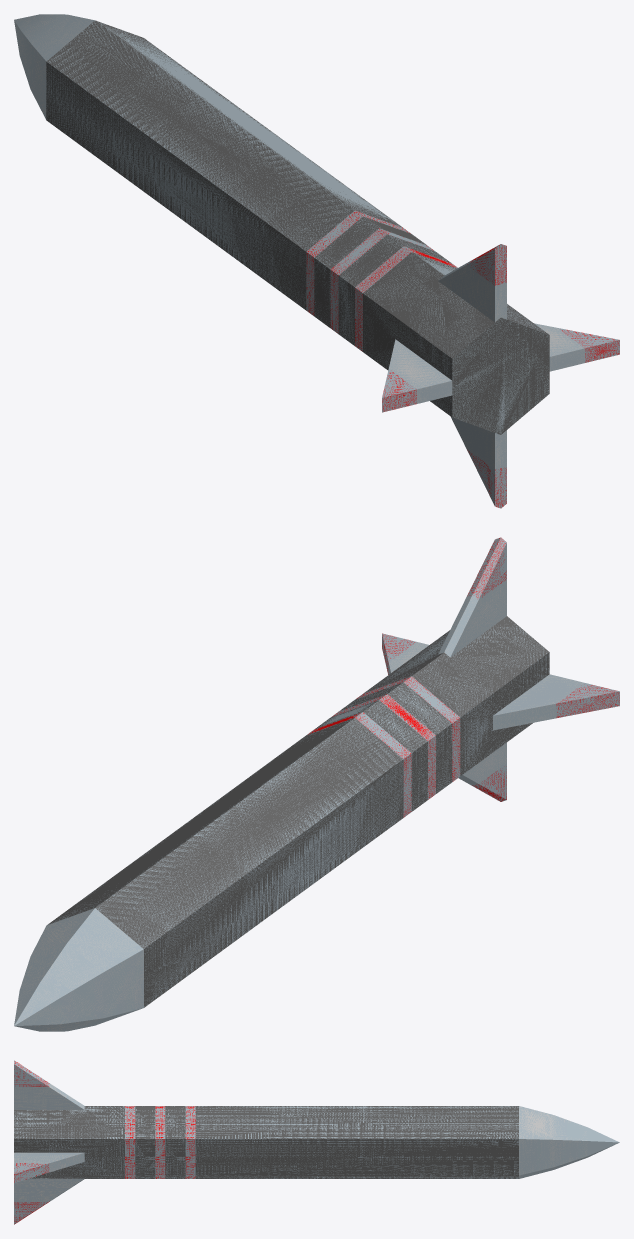
Rendered from missile.fbx.
The picture shows the model from 3 angles, top to bottom: view 1: azimuth 30°, elevation 25°; view 2: azimuth 150°, elevation 25°; view 3: azimuth 270°, elevation 25°; orthographic projection. The views are drawn at different scales.
Parts seen in each view (by area): view 1: Model; view 2: Model; view 3: Model.
Part boxes in pixels (bbox=[...]): Model: bbox=[14, 14, 619, 508]; Model: bbox=[14, 537, 619, 1031]; Model: bbox=[14, 1060, 619, 1224].
Size of the model in its own units: 0.8464 by 0.9 by 3.
